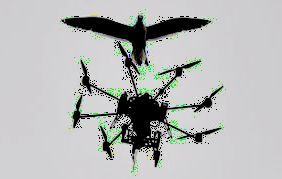Bird: (58, 8, 212, 66)
Drone: (70, 66, 225, 169)
